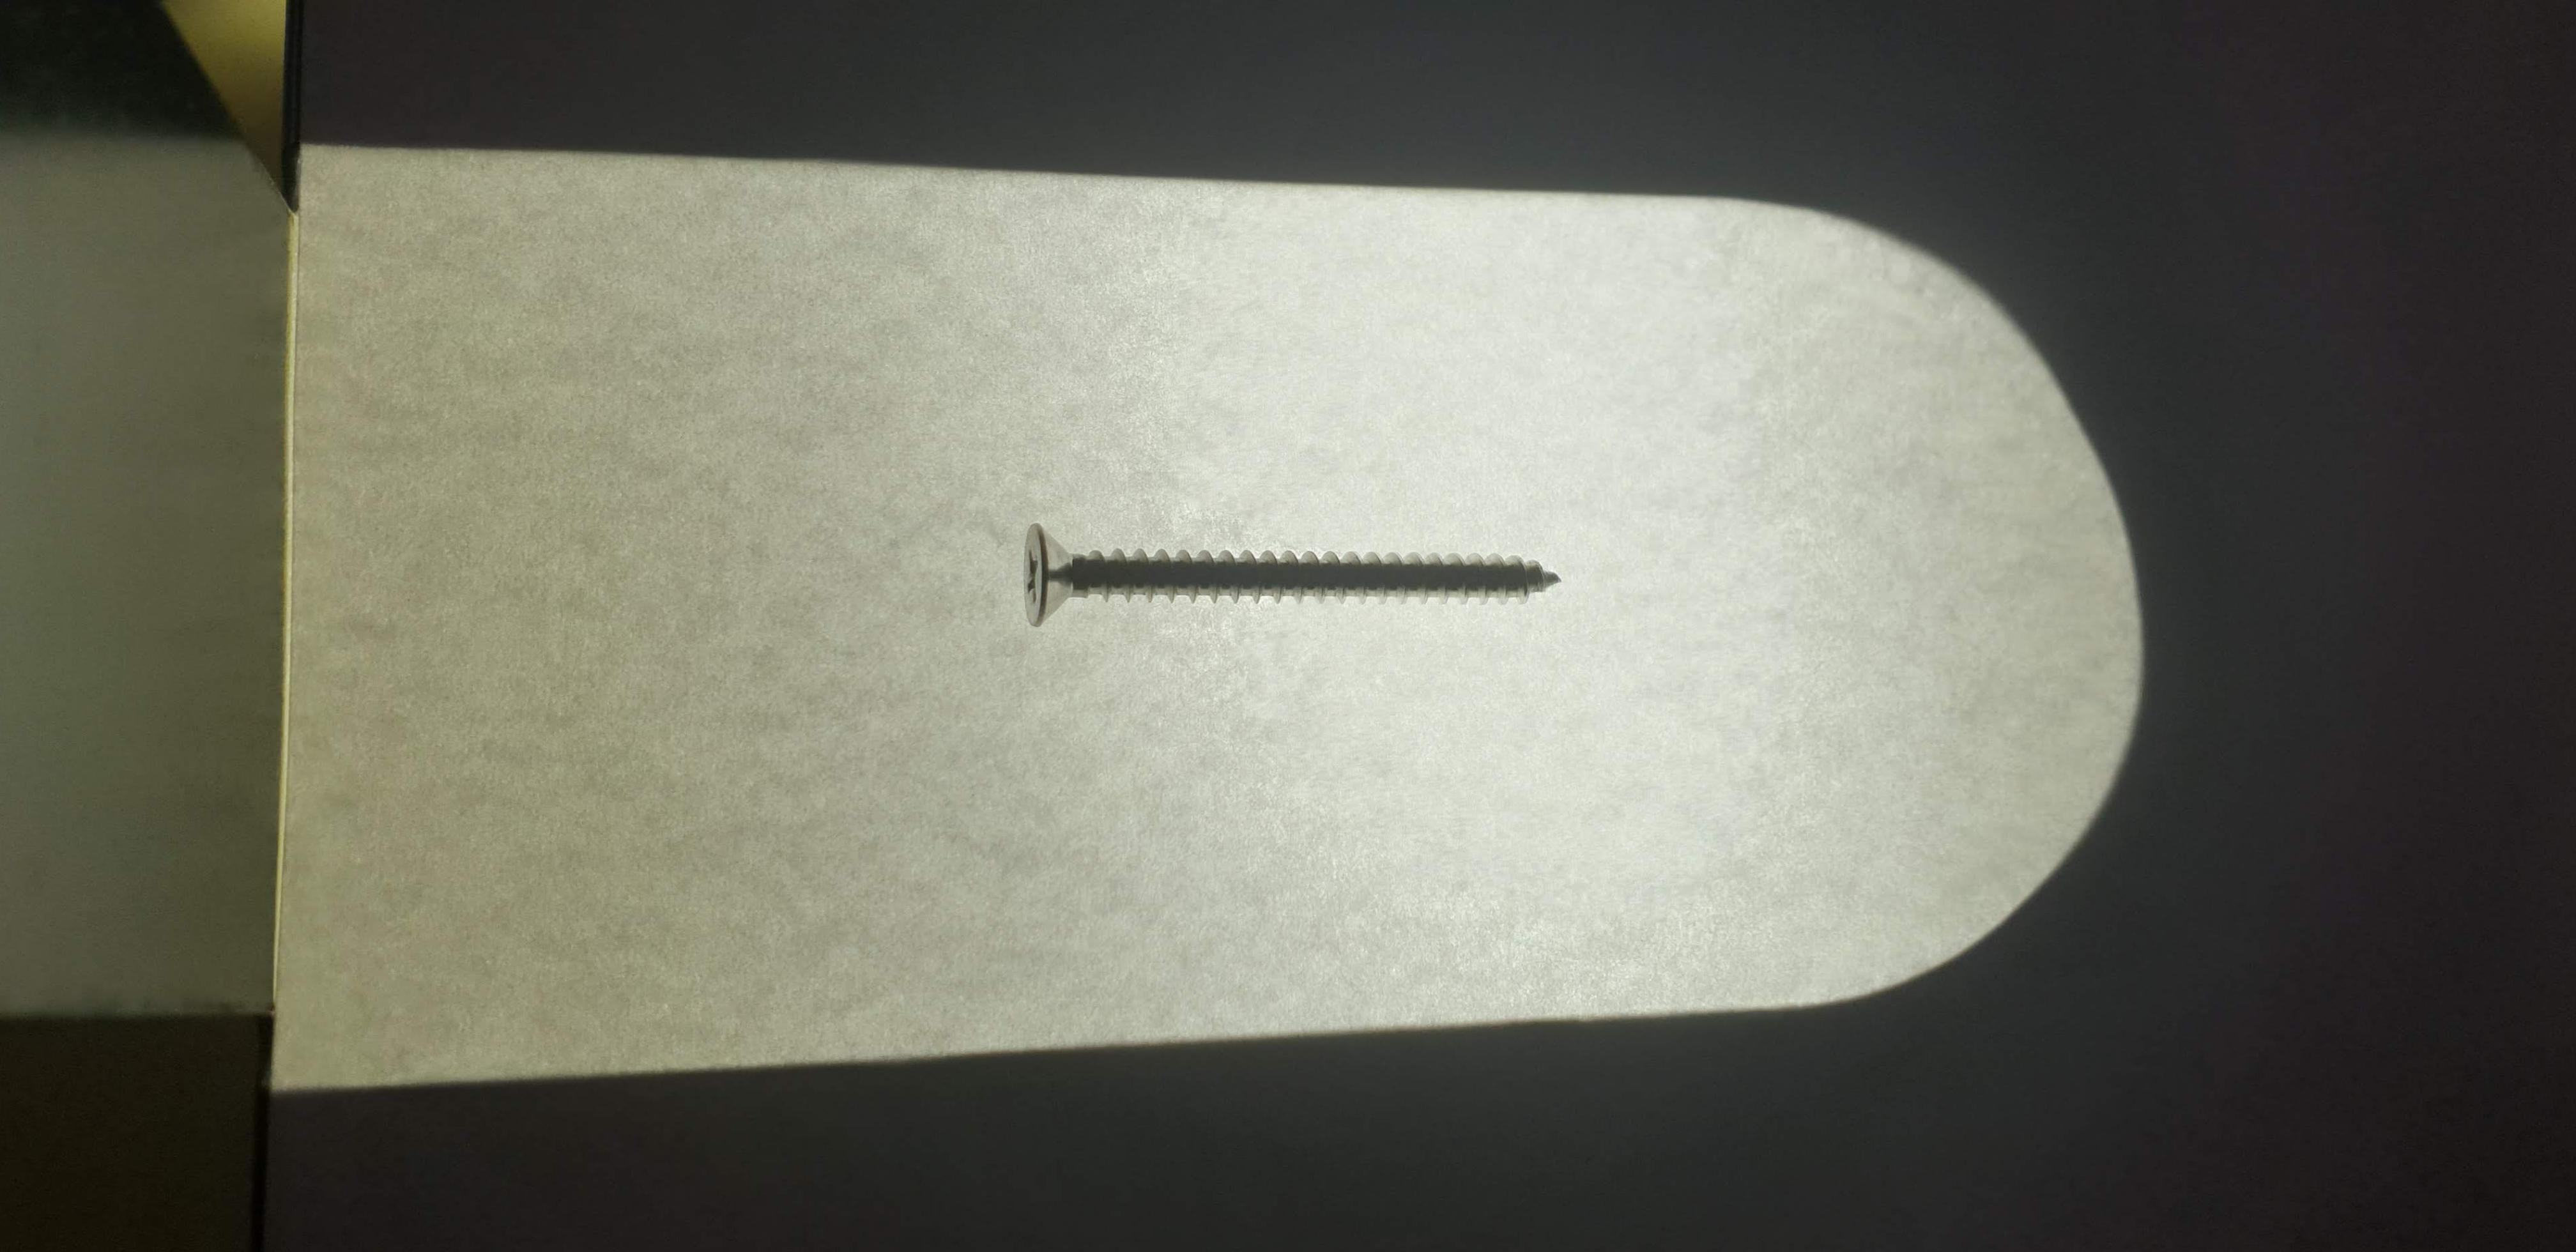S001: (979, 506, 1600, 651)
